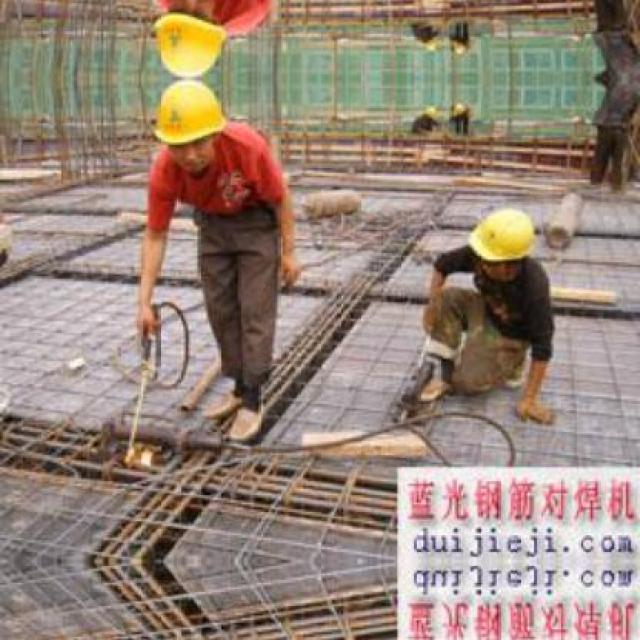hat: (148, 77, 226, 148), (463, 207, 539, 264)
